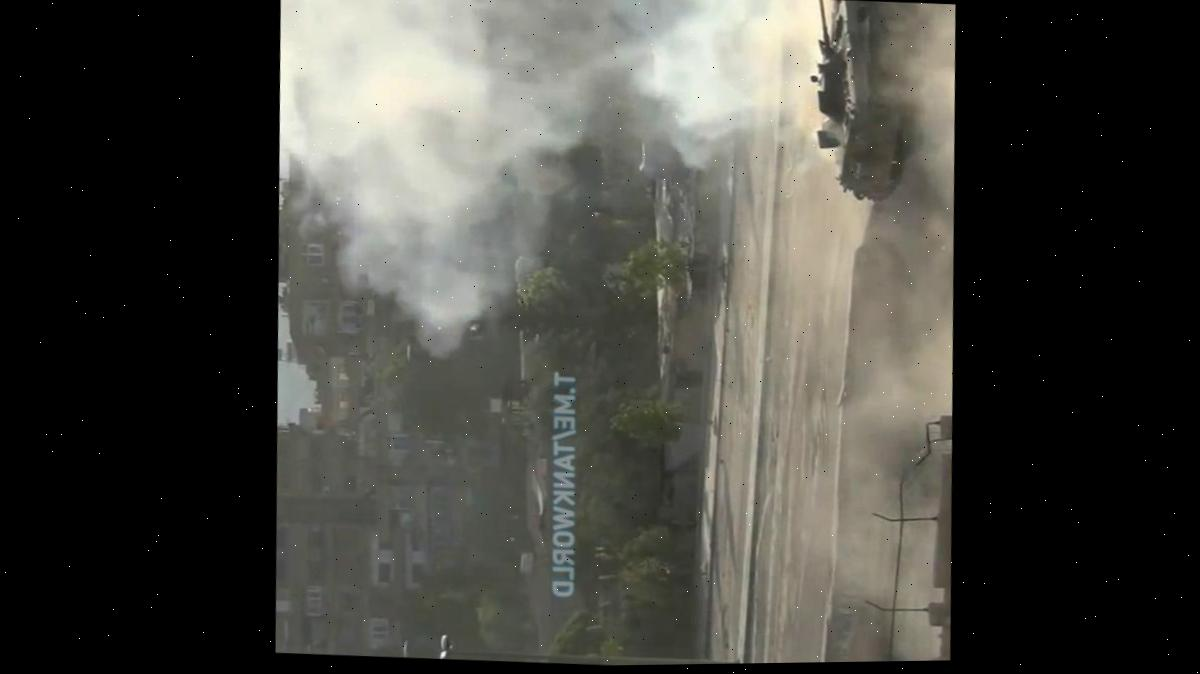tank: (804, 0, 928, 204)
